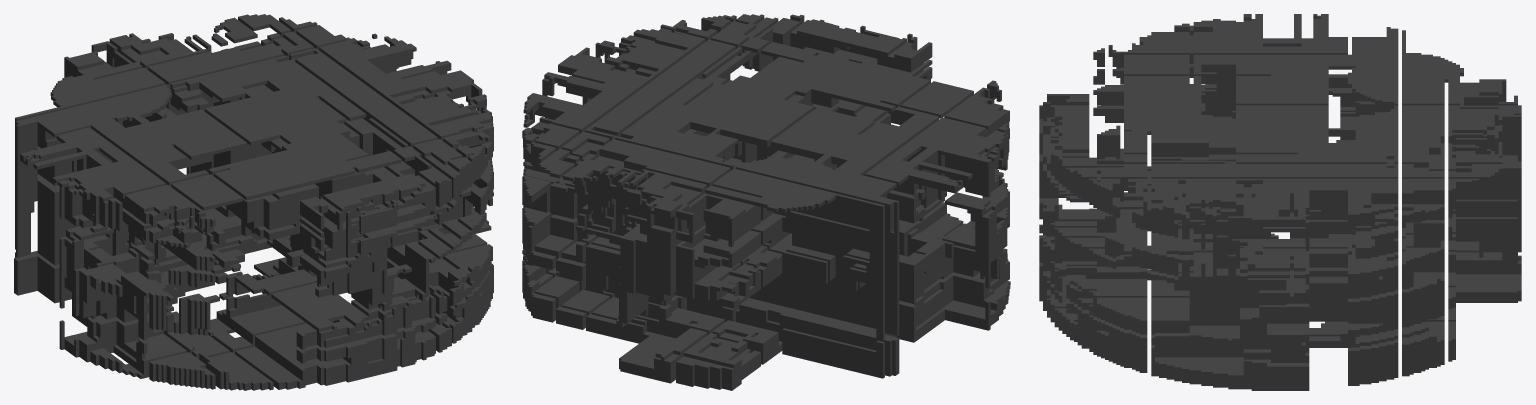
The picture shows the model from 3 angles, left to right: view 1: azimuth 30°, elevation 25°; view 2: azimuth 150°, elevation 25°; view 3: azimuth 270°, elevation 25°; orthographic projection.
Parts seen in each view (by area): view 1: 金属; view 2: 金属; view 3: 金属.
Boxes of the visible parts, left/top/right/bottom form: 金属: left=14, top=14, right=493, bottom=390; 金属: left=522, top=14, right=1010, bottom=390; 金属: left=1039, top=14, right=1521, bottom=390.
Bounding box in the file's own units: 126 × 49 × 125.
1 material, 1 textured.
